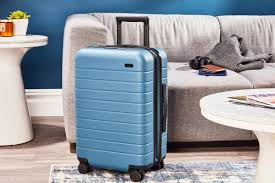suitcase: (71, 14, 167, 182)
